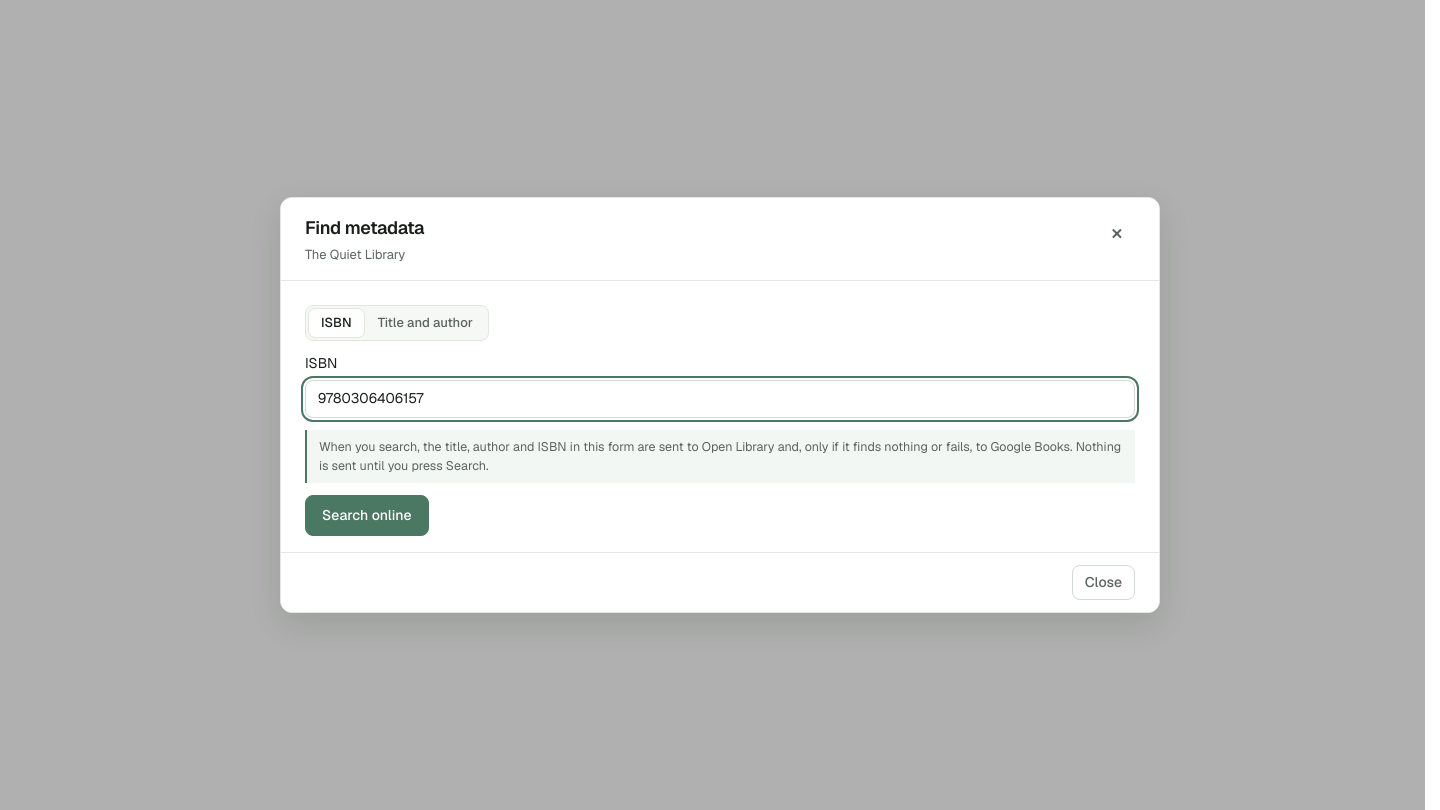
Test case: FindMetadataDialog › falls back to the generic code text for an unknown reason
Expected: the field labelled "ISBN" is shown, 305,380 -> 1135,418
Click the button "Search online" at (367, 516), box 305,495 -> 428,536
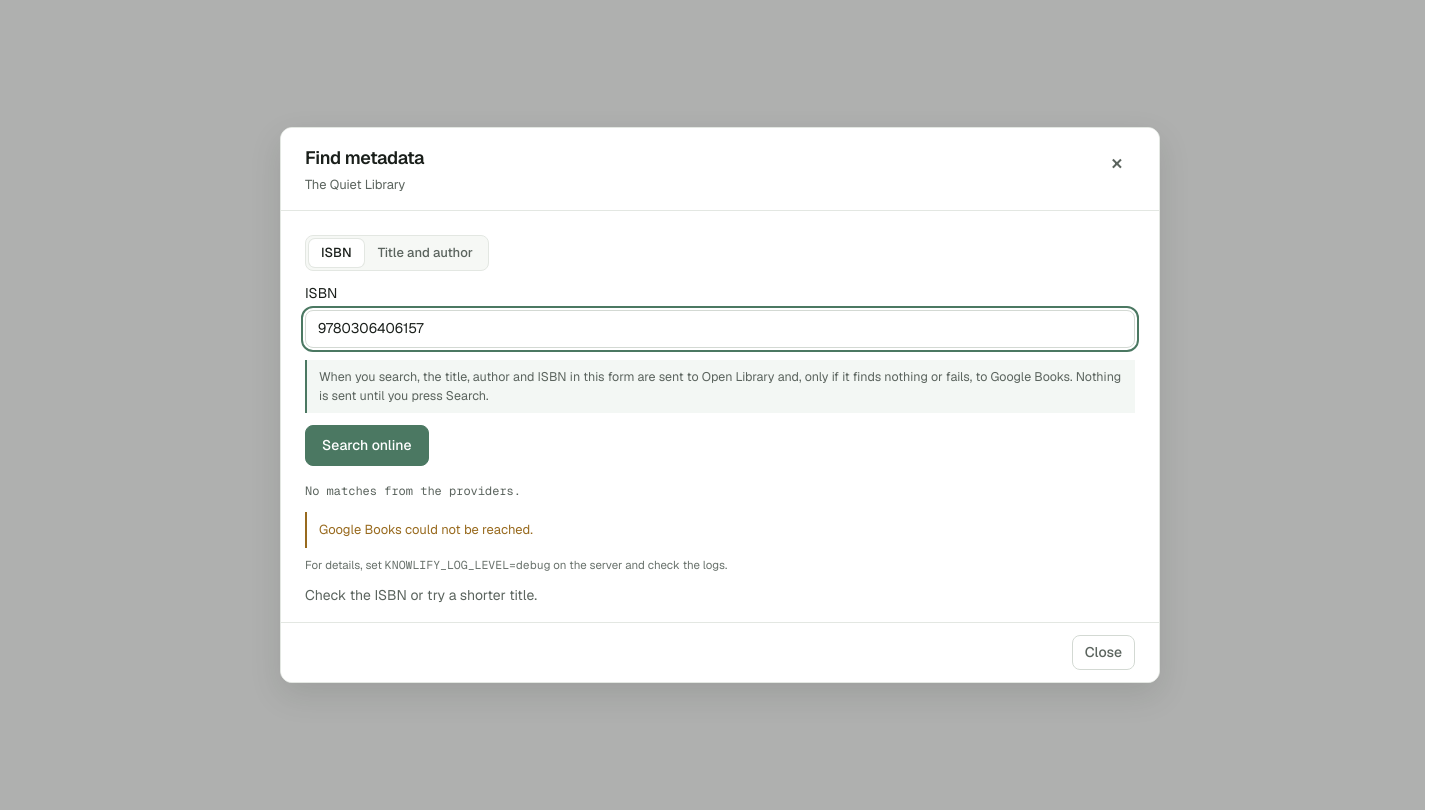
Expected: the text "Google Books could not be reached." is shown, 305,512 -> 1135,548
